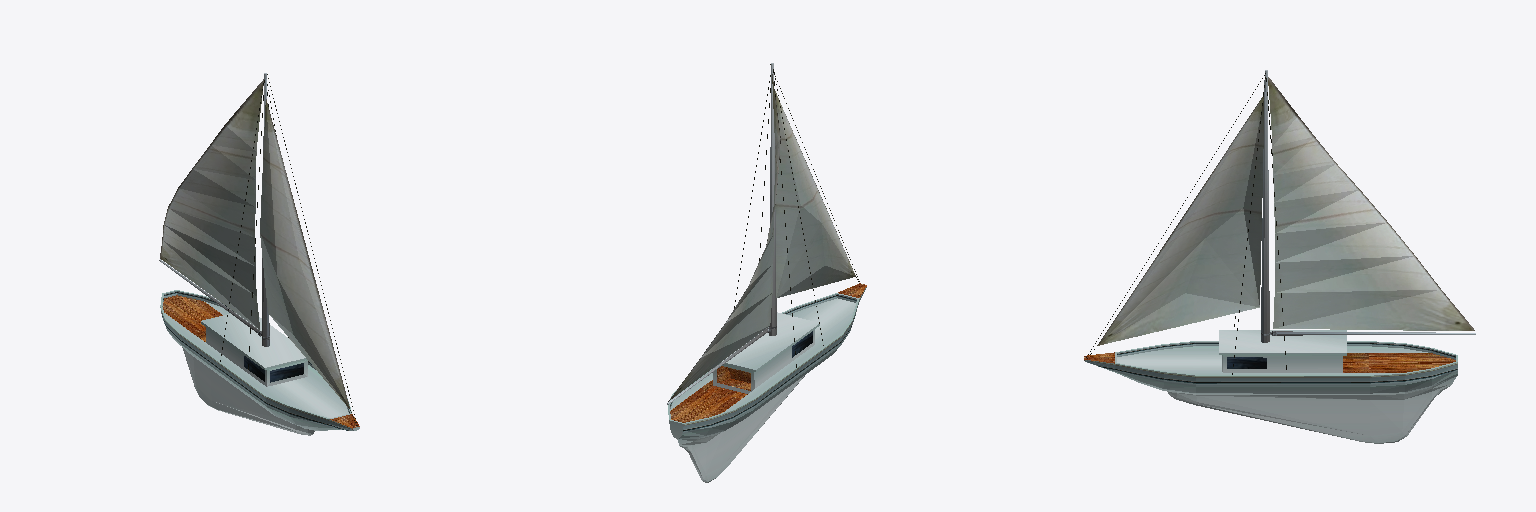
The picture shows the model from 3 angles: view 1: azimuth 30°, elevation 25°; view 2: azimuth 150°, elevation 25°; view 3: azimuth 270°, elevation 25°; orthographic projection.
Parts seen in each view (by area): view 1: Frame0; view 2: Frame0; view 3: Frame0.
Part boxes in pixels (bbox=[...]): Frame0: bbox=[159, 73, 359, 435]; Frame0: bbox=[667, 63, 866, 482]; Frame0: bbox=[1084, 70, 1475, 443].
Bounding box in the file's own units: 39.51 × 186 × 177.
Materials: 1 (1 with a texture image).